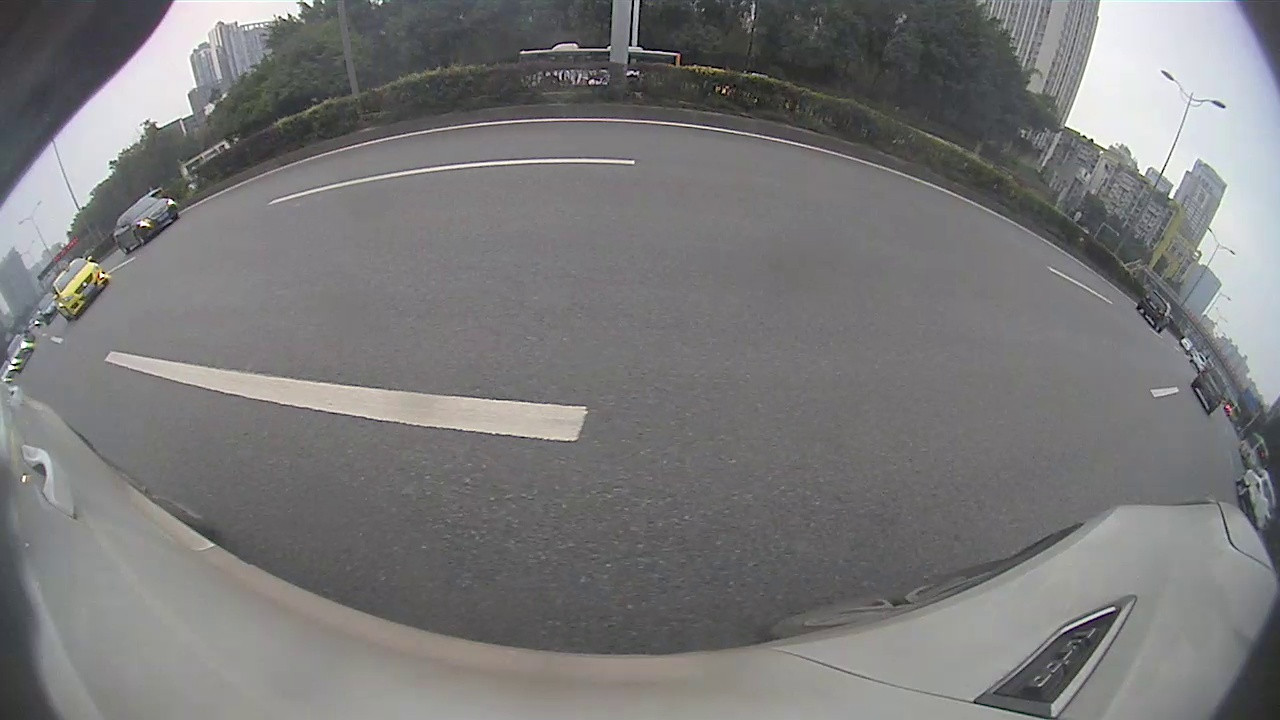car: (48, 254, 113, 323), (110, 193, 181, 256), (1189, 362, 1229, 418), (1136, 286, 1174, 335)
